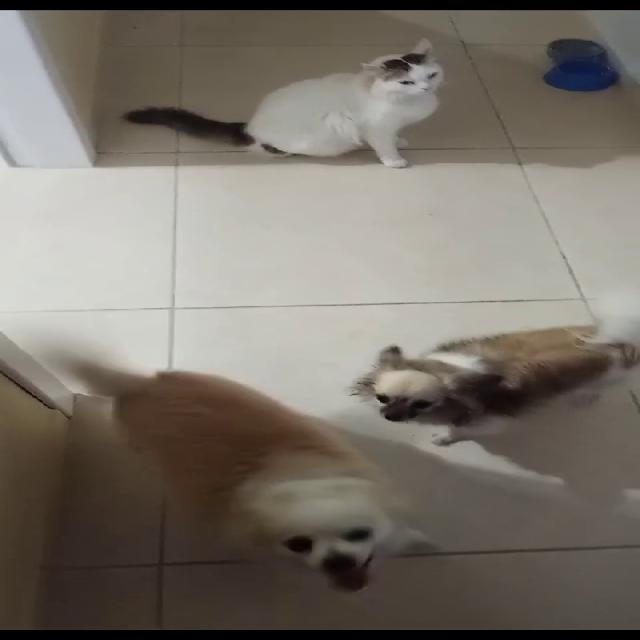Pedrita: (340, 320, 638, 420)
Theo: (47, 326, 426, 598)
